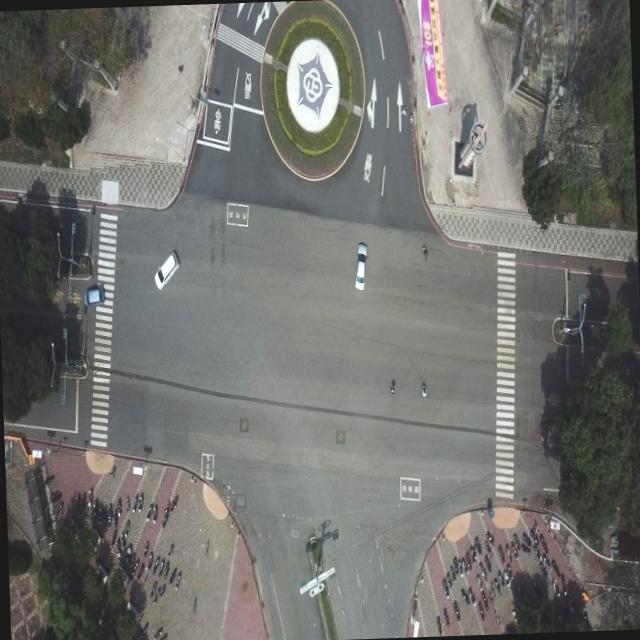bike: (390, 378, 396, 396), (421, 381, 426, 398)
car: (153, 248, 180, 291), (353, 240, 369, 290), (82, 282, 106, 314)
